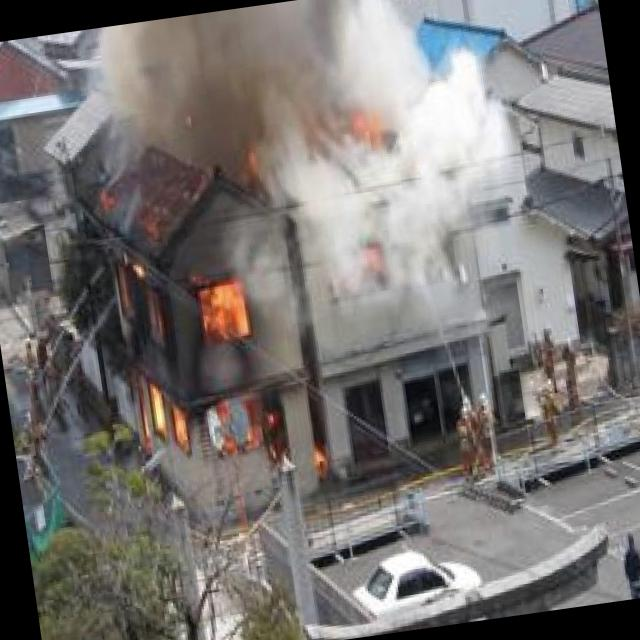Fire: (103, 206, 330, 514)
Smoke: (92, 0, 520, 207), (292, 159, 529, 319)
